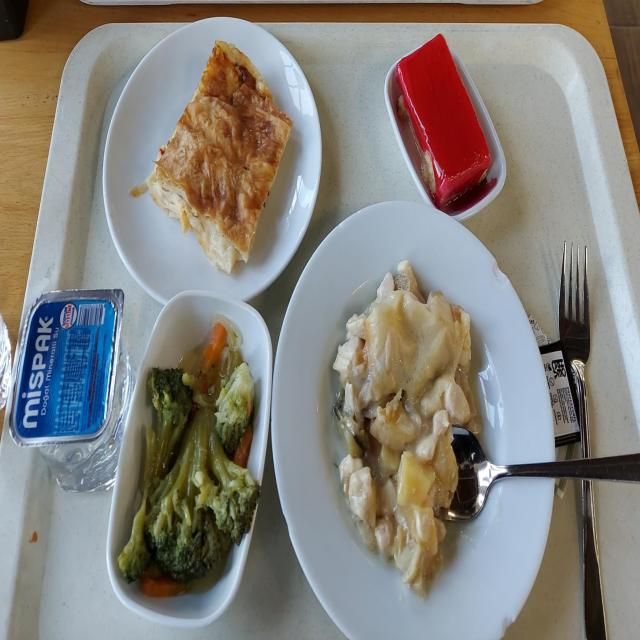ana_yemek: (302, 198, 542, 640), (103, 16, 317, 303)
yan_yemek: (107, 292, 271, 626), (382, 38, 505, 220)
